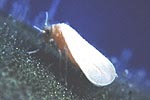whitefly: (38, 14, 119, 88)
